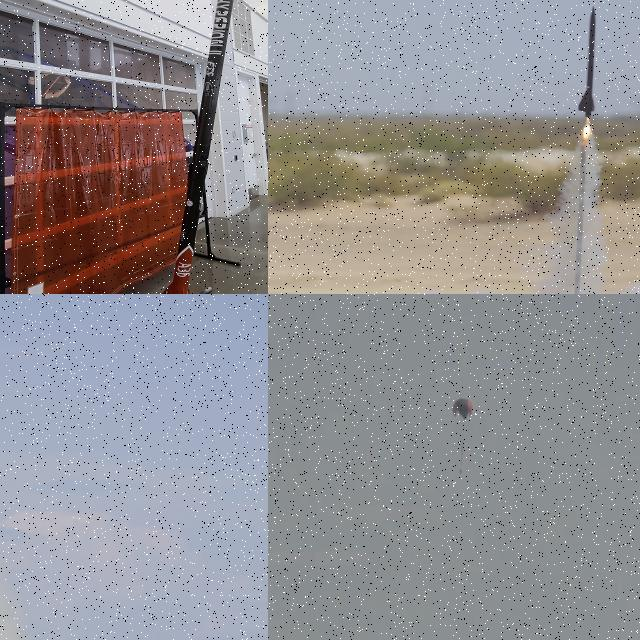Rocket: (161, 0, 233, 294), (578, 6, 597, 118), (460, 468, 462, 474)
